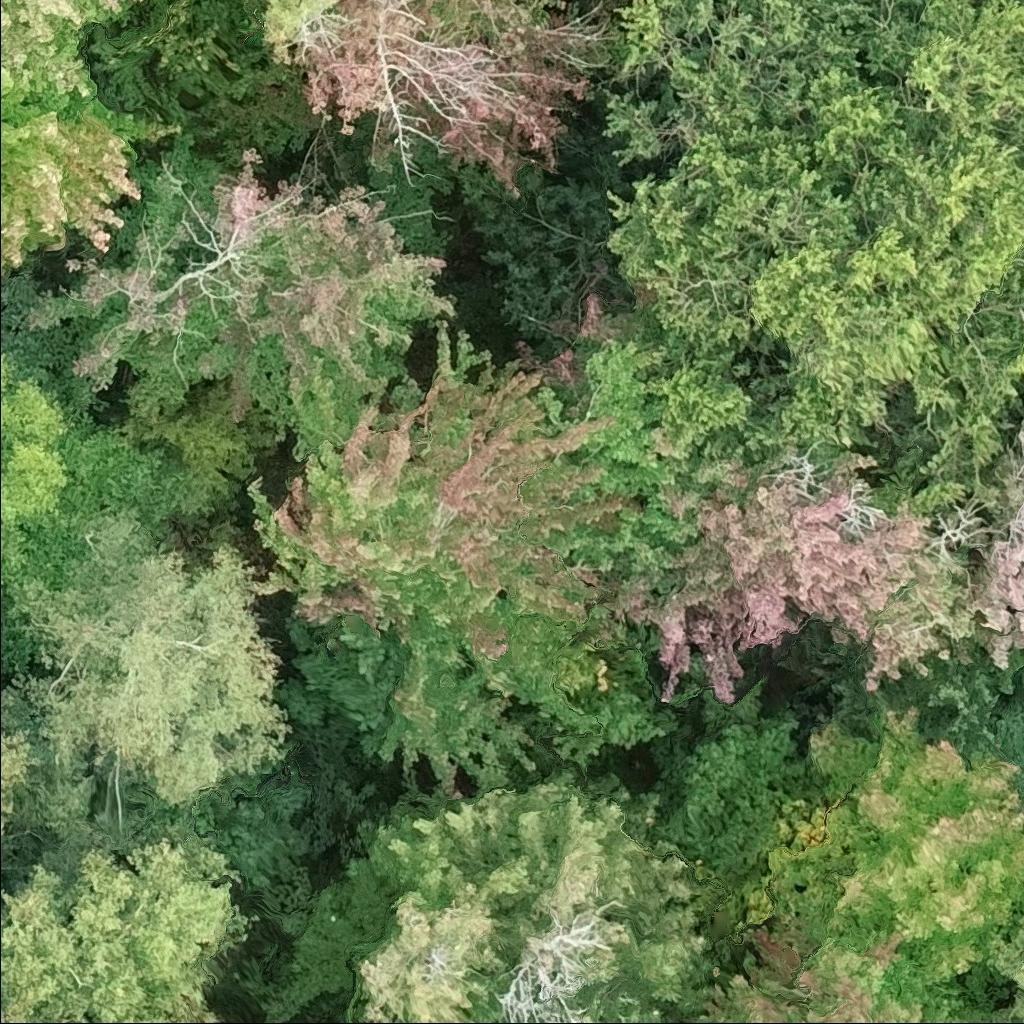crown: (599, 0, 1023, 482), (243, 315, 641, 790), (26, 144, 458, 465), (608, 424, 981, 706), (346, 762, 730, 1023), (0, 500, 292, 838), (257, 0, 620, 196), (770, 704, 1023, 981), (0, 263, 188, 593), (0, 807, 261, 1023), (516, 290, 695, 590), (0, 50, 185, 277), (694, 914, 936, 1023), (495, 899, 625, 1023), (156, 156, 259, 312), (958, 420, 1023, 667), (0, 0, 144, 101), (366, 50, 452, 188), (0, 634, 37, 844), (993, 914, 1023, 1023), (172, 1001, 217, 1023), (27, 1009, 92, 1023), (392, 0, 416, 5)
